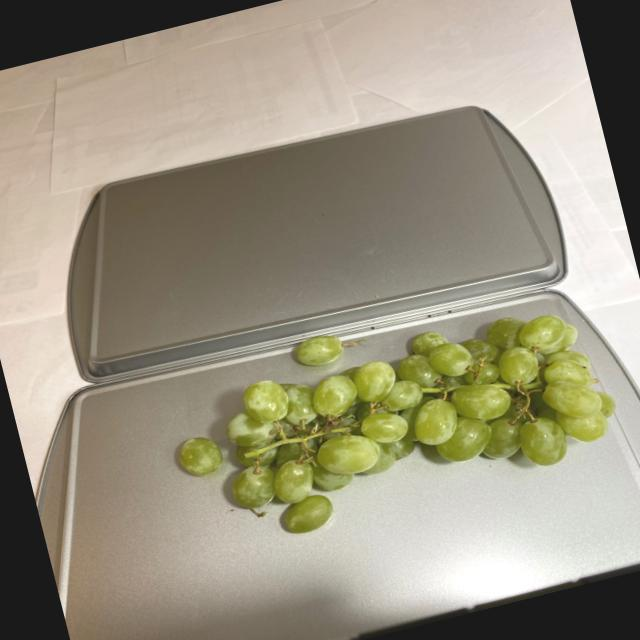grapes: (156, 276, 620, 557)
